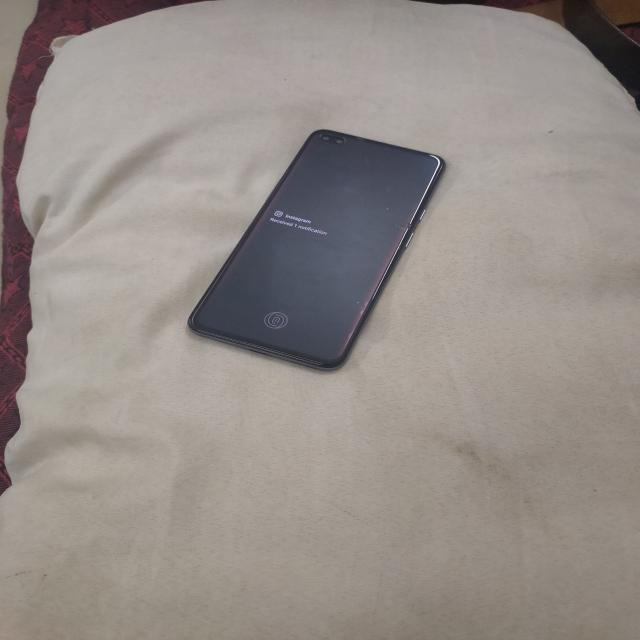Phone: (185, 122, 452, 375)
